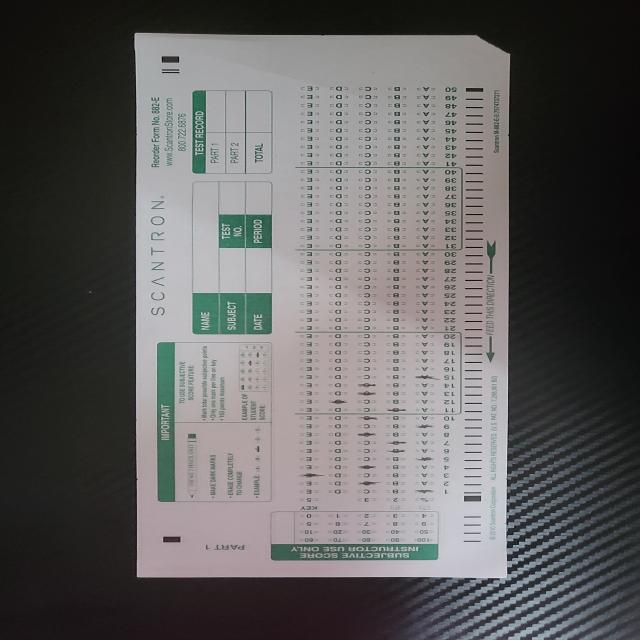scantron: (135, 34, 511, 579)
